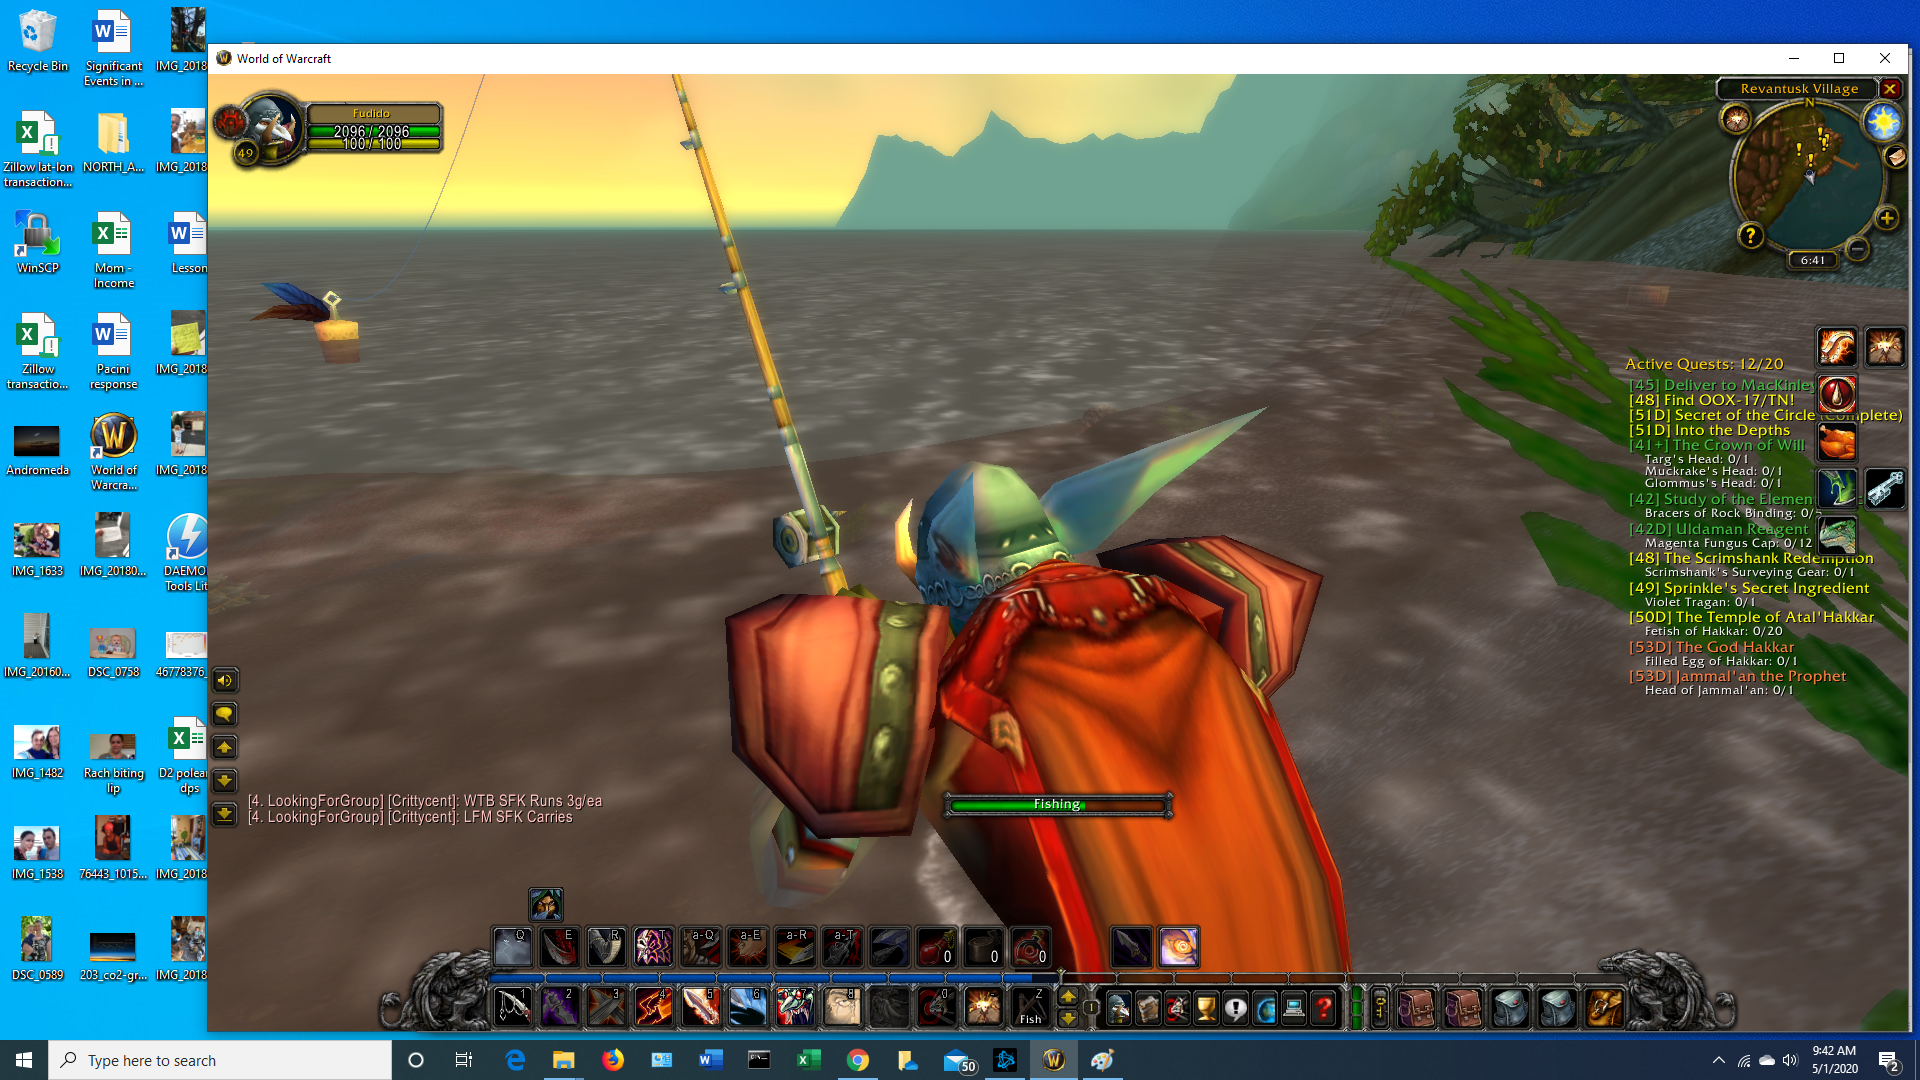bobble: (251, 272, 372, 369)
